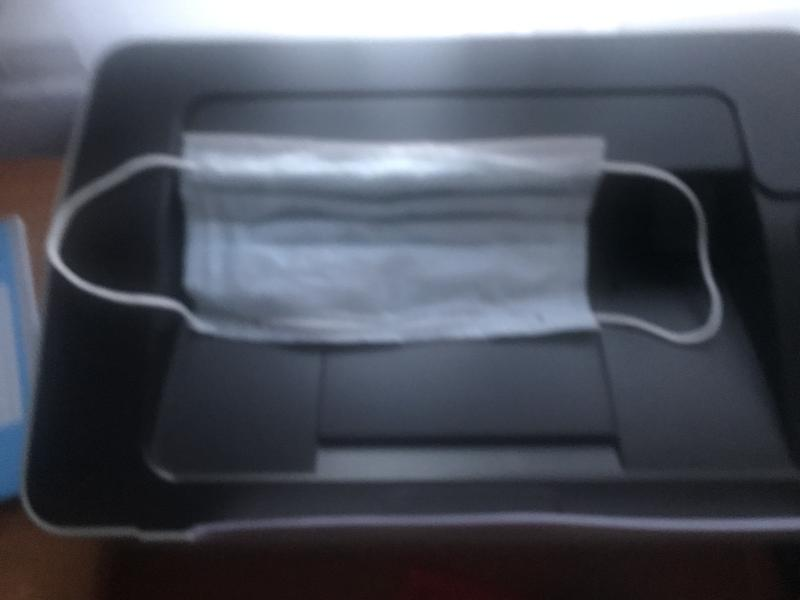medical_mask: (45, 132, 722, 345)
